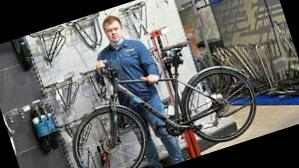mask_weared_incorrect: (105, 23, 125, 47)
